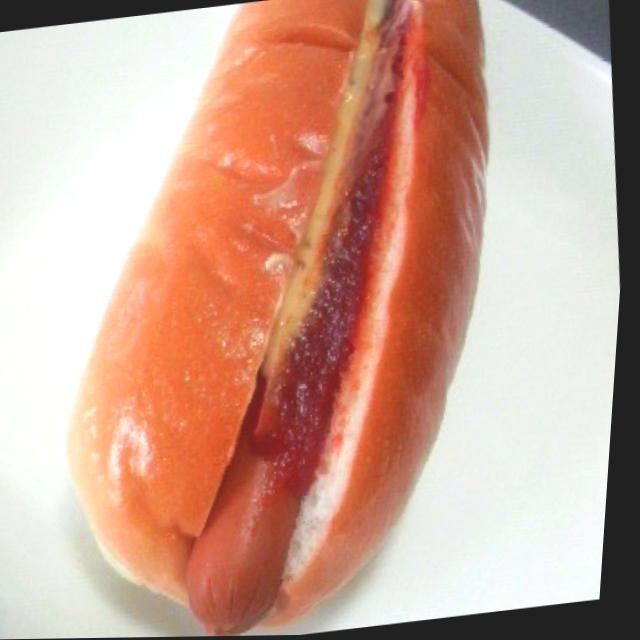汉堡快餐: (23, 0, 544, 639)
